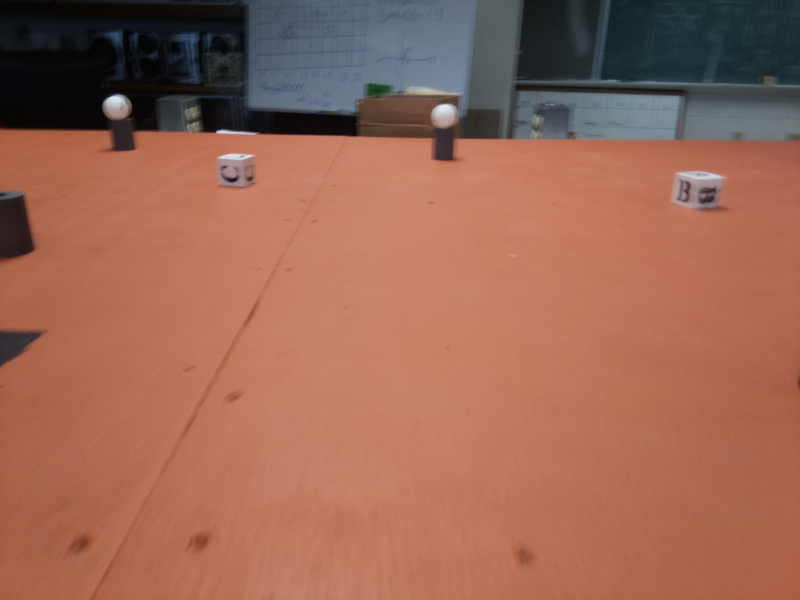blockB: (670, 167, 724, 217)
blockC: (216, 149, 257, 192)
obstacle: (429, 101, 458, 169), (105, 91, 129, 158)
